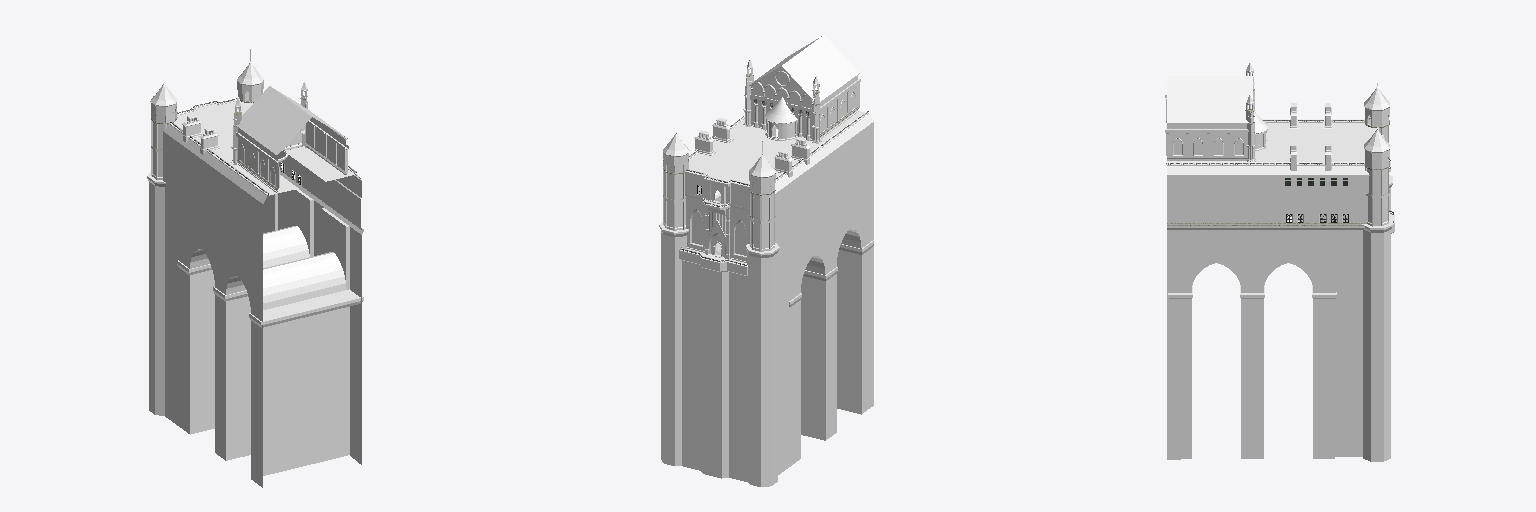
3 renders of one model, left to right at view 1: azimuth 30°, elevation 25°; view 2: azimuth 150°, elevation 25°; view 3: azimuth 270°, elevation 25°, orthographic.
Parts seen in each view (by area): view 1: mesh0, mesh13, mesh1, mesh21, mesh5, mesh16, mesh18; view 2: mesh0, mesh13, mesh1, mesh21, mesh5, mesh24, mesh15, mesh19, mesh16, mesh18; view 3: mesh0, mesh13, mesh1, mesh21, mesh5, mesh16, mesh24, mesh15.
Boxes of the visible parts, x1,y1,x2,y2 form: mesh0: [151, 49, 362, 487]; mesh13: [149, 117, 360, 475]; mesh1: [150, 63, 360, 203]; mesh21: [171, 100, 354, 195]; mesh5: [234, 121, 344, 186]; mesh16: [147, 87, 363, 327]; mesh18: [177, 119, 363, 324]; mesh0: [663, 69, 873, 482]; mesh13: [661, 75, 861, 486]; mesh1: [663, 35, 873, 193]; mesh21: [682, 111, 864, 265]; mesh5: [686, 80, 857, 255]; mesh24: [664, 96, 818, 244]; mesh15: [664, 67, 868, 264]; mesh19: [751, 68, 813, 101]; mesh16: [661, 71, 873, 306]; mesh18: [750, 79, 873, 304]; mesh0: [1166, 71, 1394, 459]; mesh13: [1167, 108, 1390, 461]; mesh1: [1167, 63, 1389, 175]; mesh21: [1167, 123, 1393, 220]; mesh5: [1169, 90, 1254, 155]; mesh16: [1165, 99, 1392, 298]; mesh24: [1248, 100, 1387, 219]; mesh15: [1166, 70, 1393, 223].
Bounding box in the file's own units: 36.82 × 112 × 64.45.
29 materials, 6 textured.